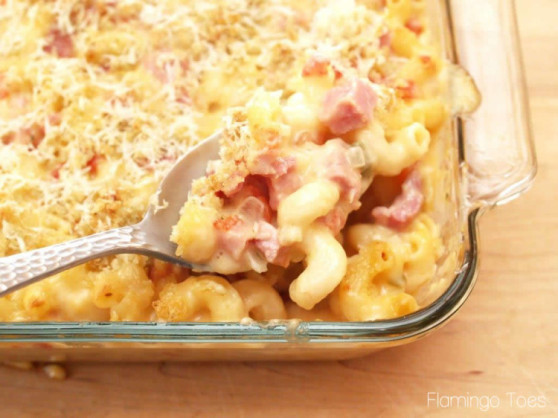cheese: (194, 77, 328, 236)
